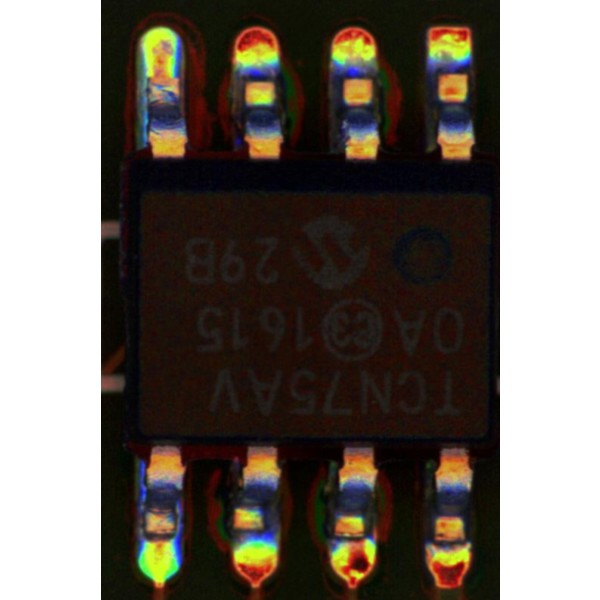Bad_podu: (152, 56, 172, 98), (150, 520, 172, 551)
Bad_qiaojiao: (344, 521, 365, 552)
